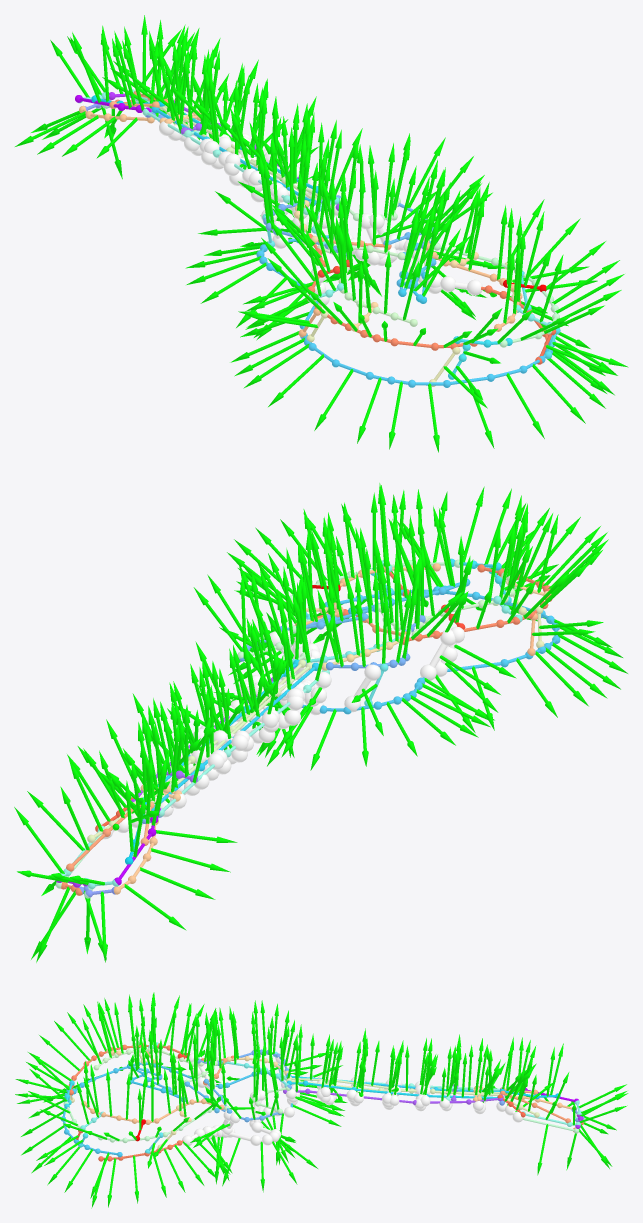
Rendered from author2_guitar.gltf.
The picture shows the model from 3 angles, top to bottom: view 1: azimuth 30°, elevation 25°; view 2: azimuth 150°, elevation 25°; view 3: azimuth 270°, elevation 25°; orthographic projection. The views are drawn at different scales.
Bounding box in the file's own units: 0.5068 × 0.2879 × 1.11.
